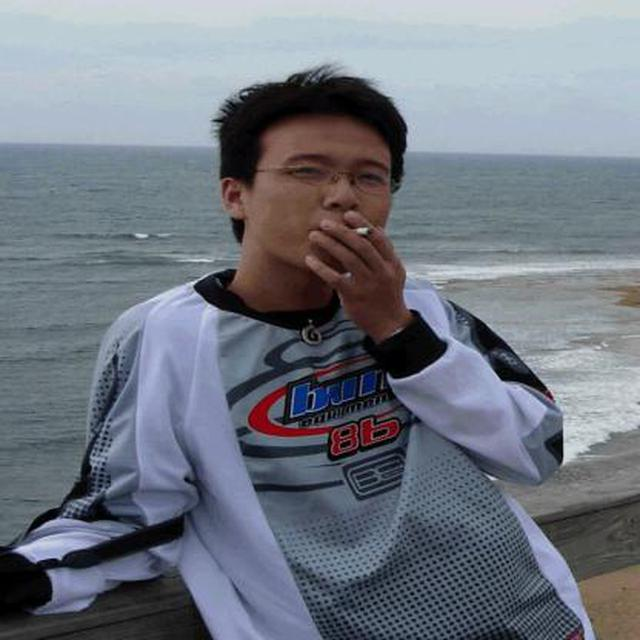smoking: (344, 228, 376, 235)
